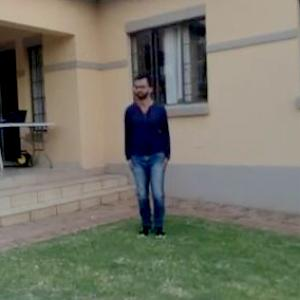follow: (118, 66, 174, 250)
